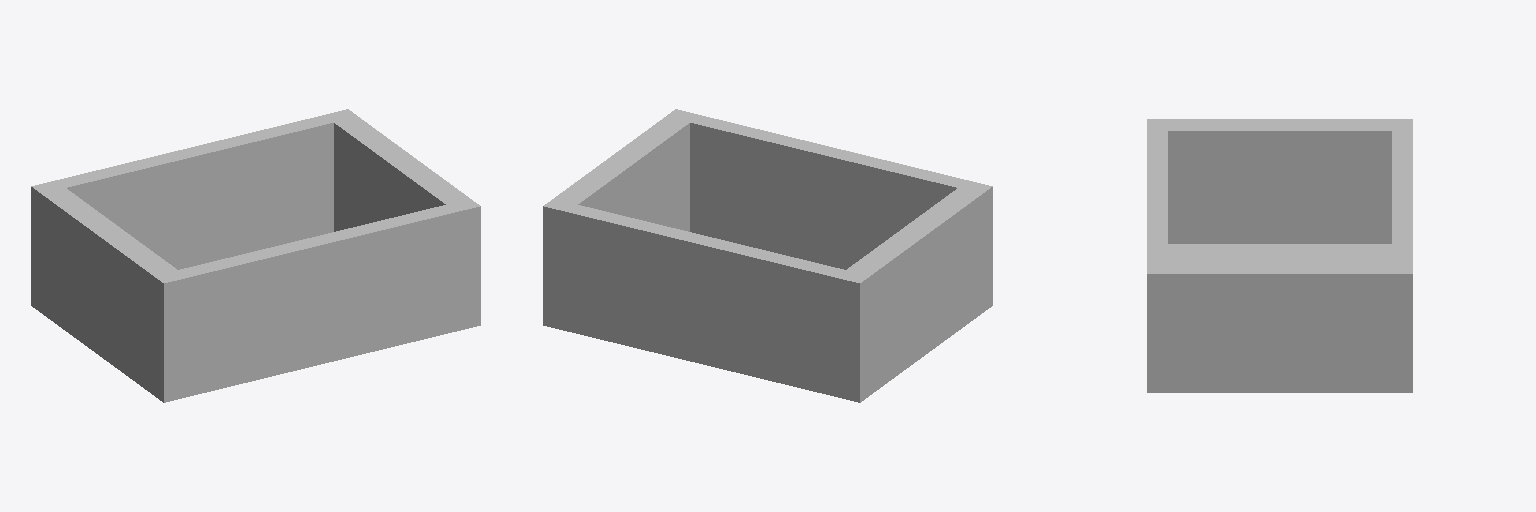
The model's file is Room.obj.
3 views of the same model, side by side, from view 1: azimuth 30°, elevation 25°; view 2: azimuth 150°, elevation 25°; view 3: azimuth 270°, elevation 25° (orthographic).
Visible parts, largest first — view 1: Cube; view 2: Cube; view 3: Cube.
Part boxes in pixels (bbox=[...]): Cube: bbox=[31, 109, 480, 402]; Cube: bbox=[543, 109, 992, 402]; Cube: bbox=[1147, 119, 1412, 392].
Bounding box in the file's own units: 21.15 × 7.6 × 15.33.